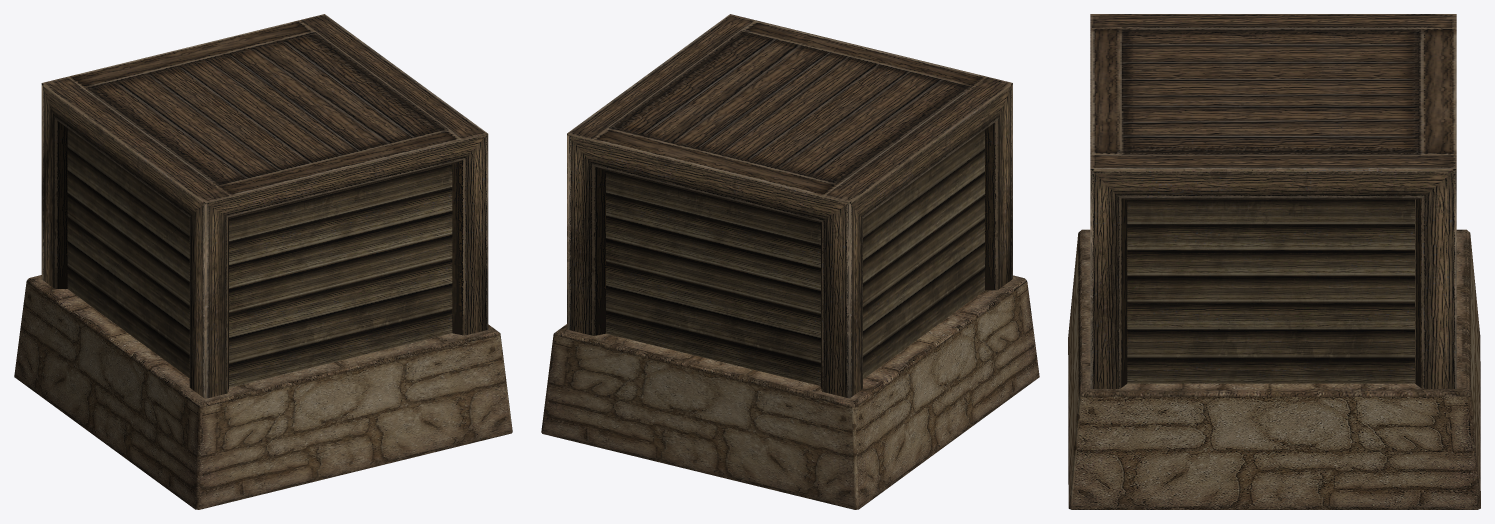
Rendered from House_4X4_02c.fbx.
The picture shows the model from 3 angles, left to right: view 1: azimuth 30°, elevation 25°; view 2: azimuth 150°, elevation 25°; view 3: azimuth 270°, elevation 25°; orthographic projection. The views are drawn at different scales.
Visible parts, largest first — view 1: House_4X4_02c; view 2: House_4X4_02c; view 3: House_4X4_02c.
Part boxes in pixels (x1,y1,x2,y2): House_4X4_02c: (14, 14, 512, 509); House_4X4_02c: (541, 14, 1039, 509); House_4X4_02c: (1068, 14, 1480, 509).
Size of the model in its own units: 4.49 by 4 by 4.5.
